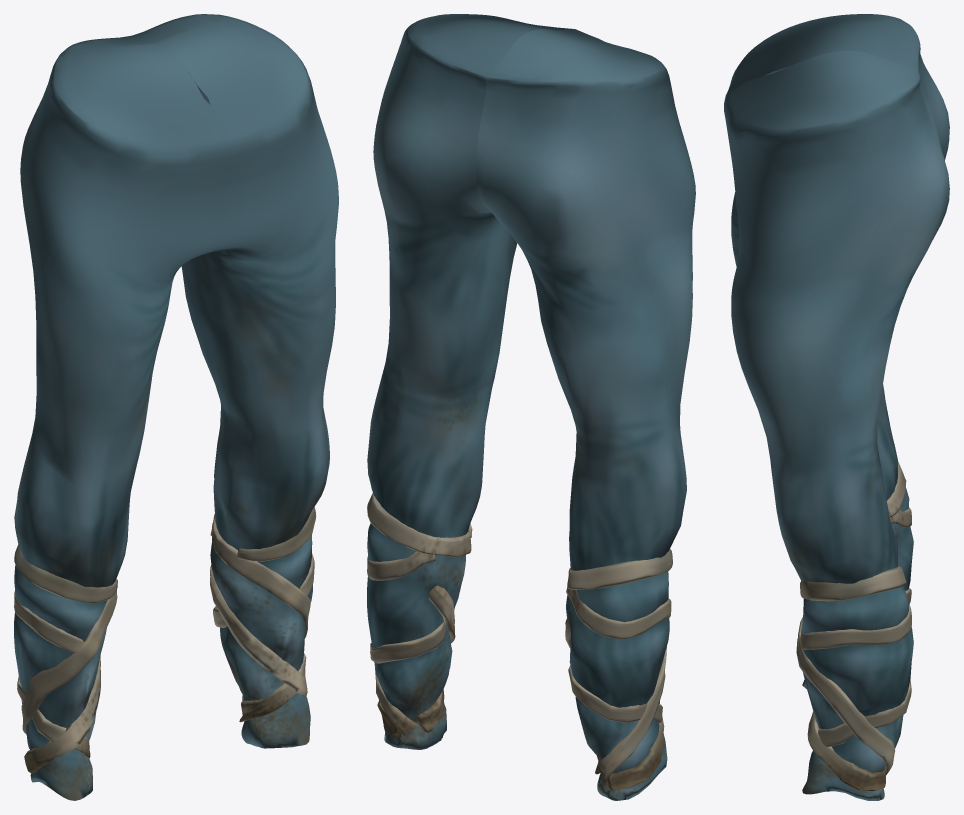
Rendered from medival pant.fbx.
The picture shows the model from 3 angles, left to right: view 1: azimuth 30°, elevation 25°; view 2: azimuth 150°, elevation 25°; view 3: azimuth 270°, elevation 25°; orthographic projection. The views are drawn at different scales.
Parts seen in each view (by area): view 1: trouser; view 2: trouser; view 3: trouser.
Boxes of the visible parts, bbox=[...] form: trouser: bbox=[14, 14, 338, 800]; trouser: bbox=[367, 14, 695, 800]; trouser: bbox=[724, 14, 949, 800].
Size of the model in its own units: 38.61 by 88.98 by 26.04.
